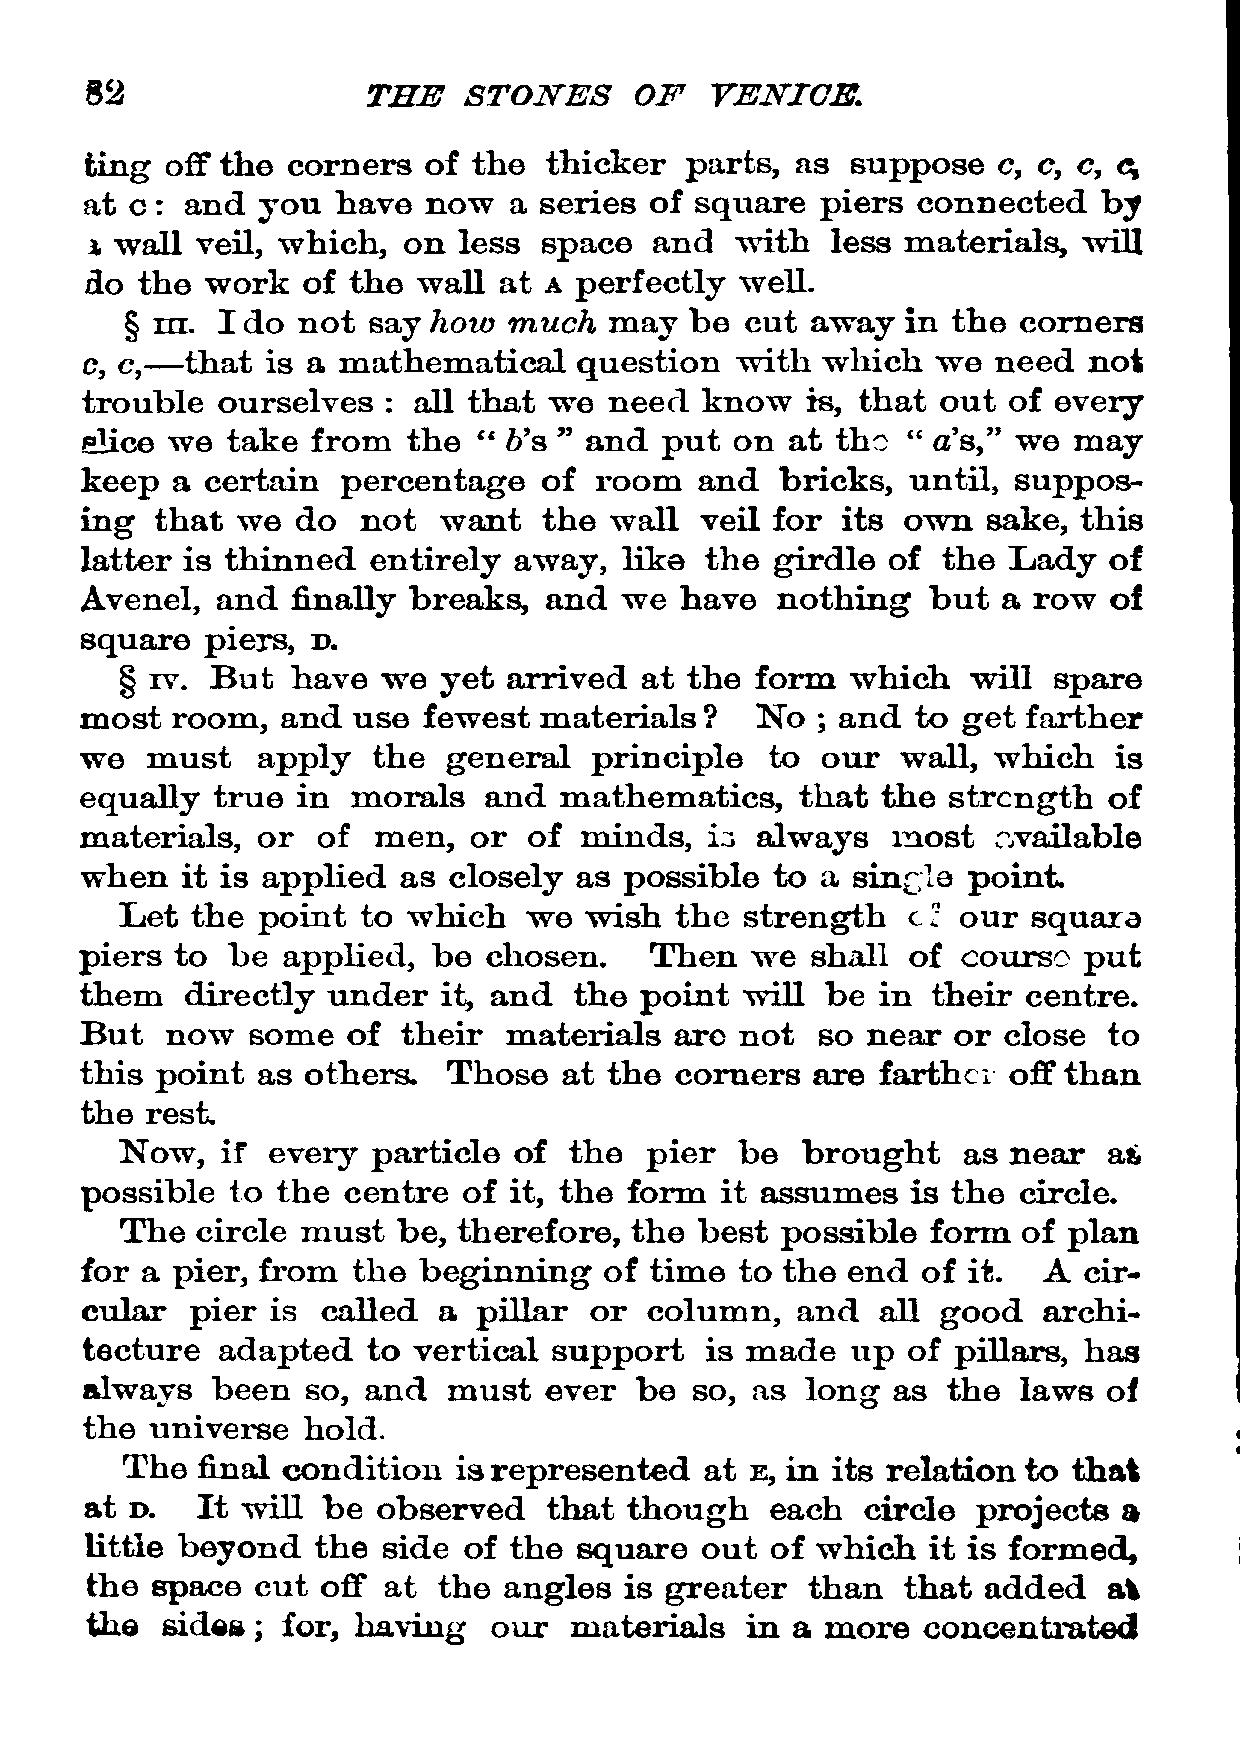content: (76, 142, 1147, 1655)
content_chapter: (360, 79, 864, 107)
content_pagenumber: (76, 67, 129, 110)
